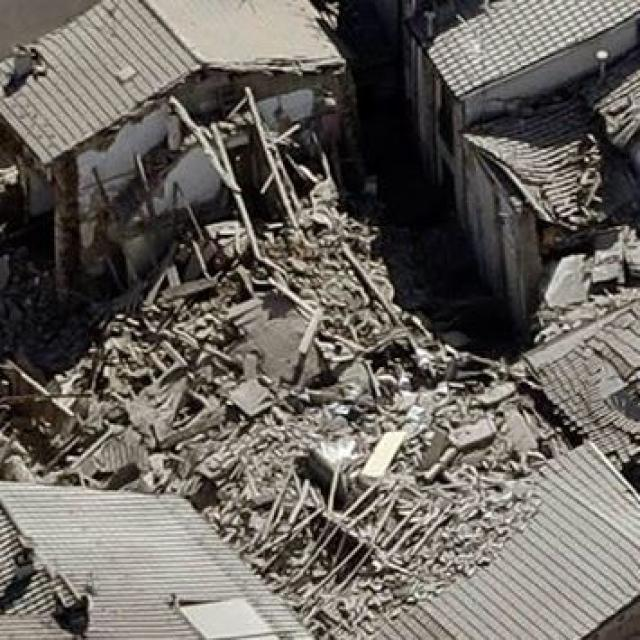collapsed_building: (63, 0, 442, 539)
